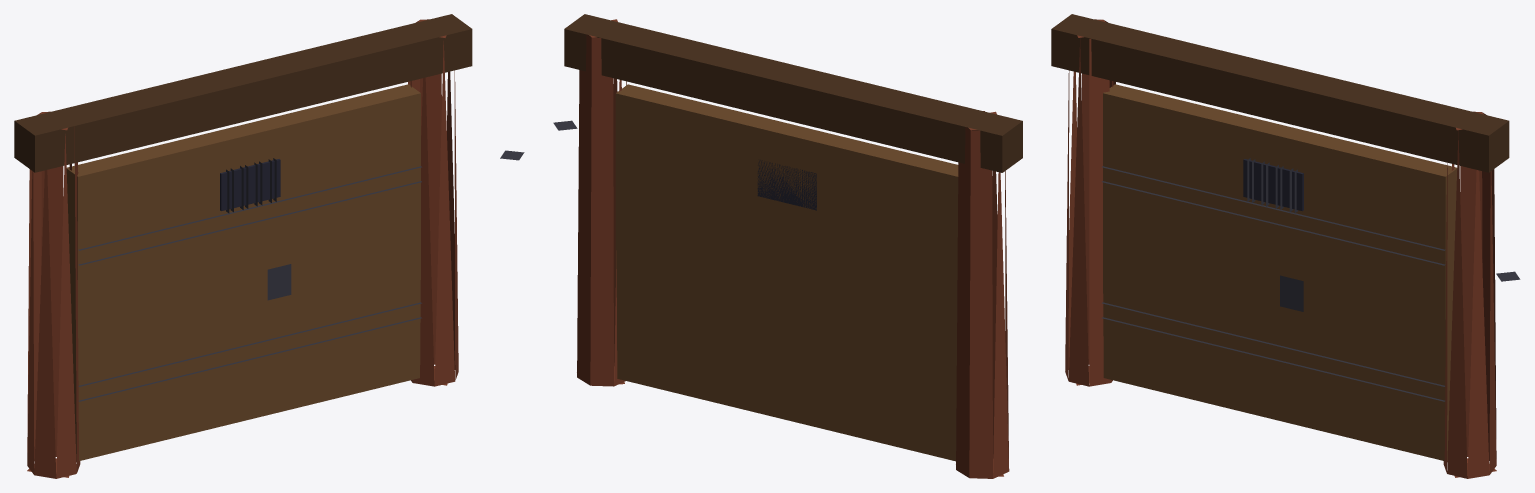
File: prop_prison_gate_lod1.glb
The picture shows the model from 3 angles, left to right: view 1: azimuth 30°, elevation 25°; view 2: azimuth 150°, elevation 25°; view 3: azimuth 330°, elevation 25°; orthographic projection.
Parts seen in each view (by area): view 1: prop_prison_gate_lod1; view 2: prop_prison_gate_lod1; view 3: prop_prison_gate_lod1.
Boxes of the visible parts, box(x1,y1,x2,y2) form: prop_prison_gate_lod1: box(14, 14, 524, 478); prop_prison_gate_lod1: box(553, 14, 1022, 478); prop_prison_gate_lod1: box(1051, 14, 1520, 478).
Size of the model in its own units: 4.05 by 2.8 by 0.6.
